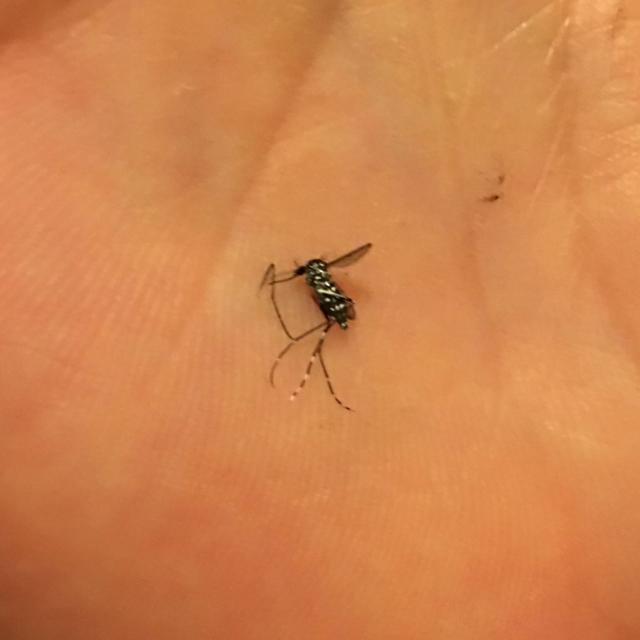albopictus: (253, 235, 374, 414)
